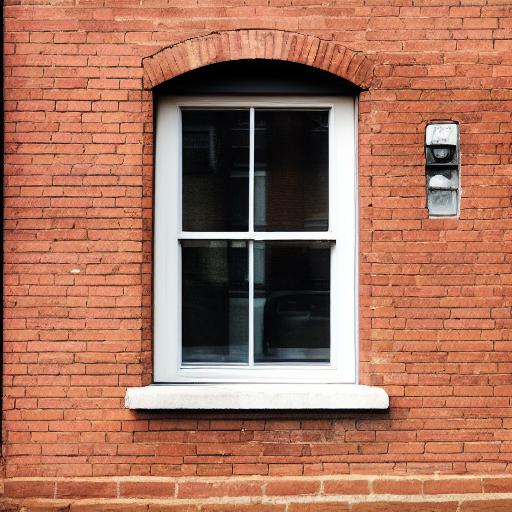Window: (124, 28, 392, 411)
